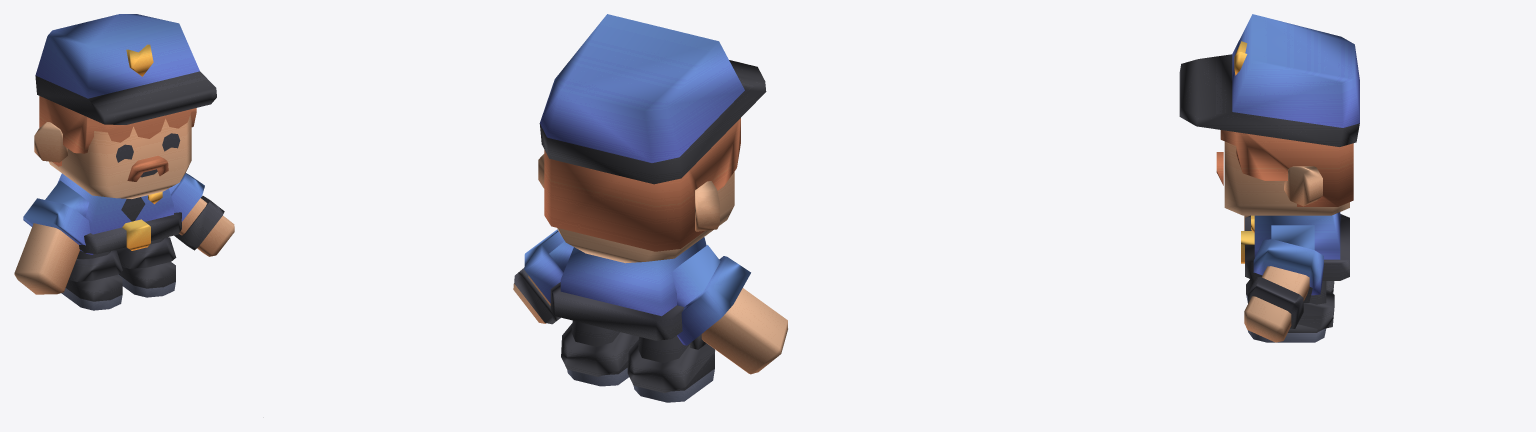
Rendered from leader_sprint_0.glb.
3 renders of one model, left to right at view 1: azimuth 30°, elevation 25°; view 2: azimuth 150°, elevation 25°; view 3: azimuth 270°, elevation 25°, orthographic. The views are drawn at different scales.
Parts seen in each view (by area): view 1: leader-sprint-0; view 2: leader-sprint-0; view 3: leader-sprint-0.
Part boxes in pixels (x1=…): leader-sprint-0: x1=14, y1=14, x2=234, y2=310; leader-sprint-0: x1=513, y1=14, x2=787, y2=402; leader-sprint-0: x1=1179, y1=14, x2=1359, y2=342.
Size of the model in its own units: 1.2 by 0.7928 by 1.2.
Materials: 1 (1 with a texture image).
